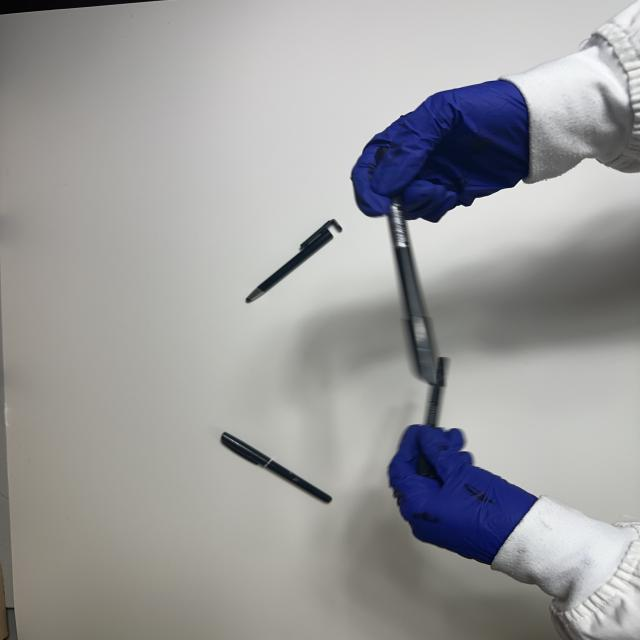gloves_contaminated: (352, 81, 529, 222), (389, 426, 536, 564)
